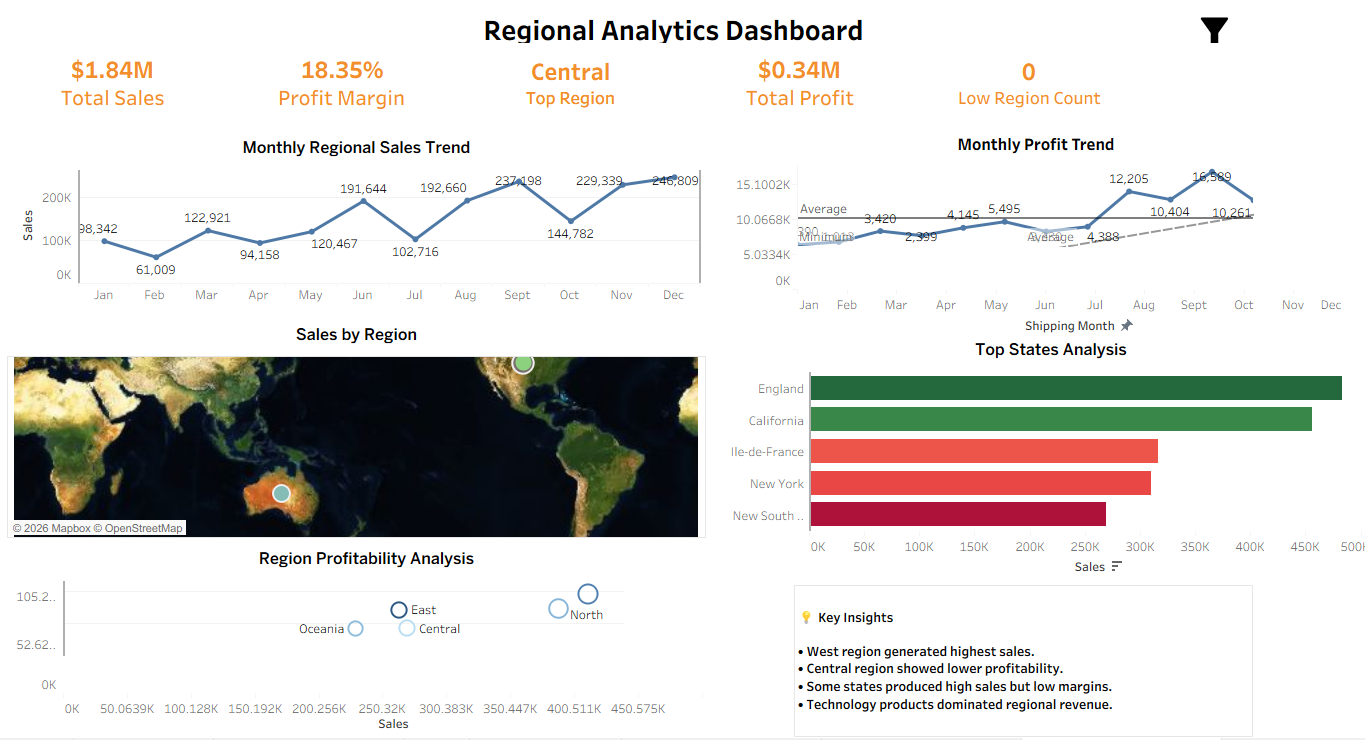

This screenshot's page, from the dashboard's own definition file:
{"tool":"tableau","page":{"name":"Regional Analytics Dashboard","canvas":[1000,1000],"units":"permille","ordinal":4},"visuals":[{"type":"dashboard-object","box":[878.3,22.3,20.4,41.1]},{"type":"text","box":[738.4,24,142.4,53.1]},{"type":"filter","title":"MONTHLY REGIONAL SALES TREND","param":"[federated.1ncq3b51rtat471ezg2cc1oqcfu0].[yr:Ship Date:ok]","box":[738.4,77,142.4,89]},{"type":"filter","title":"MONTHLY REGIONAL SALES TREND","param":"[federated.1ncq3b51rtat471ezg2cc1oqcfu0].[none:Region:nk]","box":[738.4,166.1,142.4,89]},{"type":"worksheet","title":"Profit Trend","mark":"Automatic","rows":["Profit"],"cols":["Ship Date"],"box":[533.5,174.7,449.4,277.4]},{"type":"worksheet","title":"MONTHLY REGIONAL SALES TREND","mark":"Automatic","rows":["Sales"],"cols":["Order Date"],"box":[7.7,181.5,505.2,260.3]},{"type":"filter","title":"MONTHLY REGIONAL SALES TREND","param":"[federated.1ncq3b51rtat471ezg2cc1oqcfu0].[none:State:nk]","box":[738.4,255.1,142.4,109.6]},{"type":"filter","title":"MONTHLY REGIONAL SALES TREND","param":"[federated.1ncq3b51rtat471ezg2cc1oqcfu0].[none:Category:nk]","box":[738.4,364.7,142.4,89]},{"type":"worksheet","title":"Sales by Region","mark":"Automatic","box":[5.2,434.9,512,294.5]},{"type":"filter","title":"MONTHLY REGIONAL SALES TREND","param":"[federated.1ncq3b51rtat471ezg2cc1oqcfu0].[none:Segment:nk]","box":[738.4,453.8,142.4,89]},{"type":"worksheet","title":"TOP STATES ANALYSIS","mark":"Automatic","rows":["State"],"cols":["Sales"],"box":[533.5,455.5,470.8,325.3]},{"type":"worksheet","title":"REGION PROFITABILITY ANALYSIS","mark":"Automatic","rows":["Profit"],"cols":["Sales"],"box":[5.2,738,525.7,255.1]},{"type":"text","box":[581.2,792.8,336.1,205.5]}]}

Visuals, with their boxes on the dashboard's canvas, which has no fixed pixel size, in thousandths of its width and height (x1, y1, x2, y2). These are canvas units, not pixel positions in the 1365x740 screenshot, which may show the page scaled, cropped or inside an application window:
dashboard-object: 878/22/899/63
text: 738/24/881/77
"MONTHLY REGIONAL SALES TREND" filter: 738/77/881/166
"MONTHLY REGIONAL SALES TREND" filter: 738/166/881/255
"Profit Trend" worksheet: 534/175/983/452
"MONTHLY REGIONAL SALES TREND" worksheet: 8/182/513/442
"MONTHLY REGIONAL SALES TREND" filter: 738/255/881/365
"MONTHLY REGIONAL SALES TREND" filter: 738/365/881/454
"Sales by Region" worksheet: 5/435/517/729
"MONTHLY REGIONAL SALES TREND" filter: 738/454/881/543
"TOP STATES ANALYSIS" worksheet: 534/456/1004/781
"REGION PROFITABILITY ANALYSIS" worksheet: 5/738/531/993
text: 581/793/917/998
